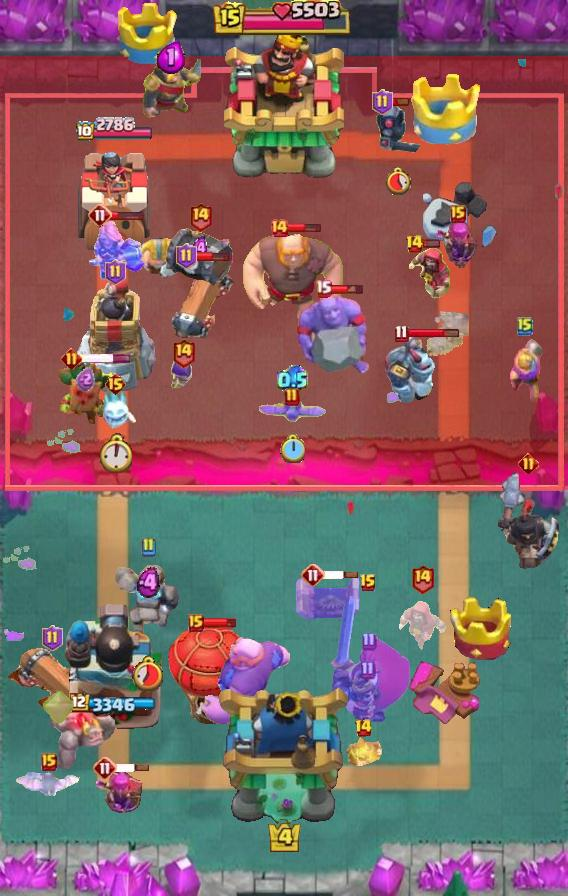archer-evolution: (96, 768, 148, 826), (433, 214, 483, 274)
bar: (79, 353, 132, 364), (407, 328, 460, 339), (201, 617, 237, 629), (330, 283, 365, 295), (287, 222, 322, 234), (110, 209, 145, 221), (194, 251, 230, 262), (114, 763, 150, 773), (323, 570, 359, 580), (390, 96, 410, 107), (422, 238, 441, 249)
bar-level: (410, 563, 435, 594), (171, 337, 196, 368), (188, 201, 213, 232), (93, 756, 117, 780), (301, 563, 325, 587), (88, 203, 112, 227), (104, 372, 127, 396), (42, 625, 63, 651), (105, 259, 126, 285), (176, 243, 197, 269), (372, 89, 393, 115), (518, 453, 539, 474), (61, 348, 82, 369), (269, 218, 289, 238), (354, 718, 373, 738), (405, 234, 424, 254), (359, 573, 377, 593), (315, 279, 332, 298), (140, 537, 156, 557), (284, 387, 300, 407), (517, 316, 533, 336), (41, 753, 57, 771), (188, 614, 204, 632), (450, 205, 466, 223), (394, 324, 409, 343)
bat-evolution: (13, 771, 85, 799), (255, 399, 329, 425)
cannoneer-tower: (64, 601, 164, 731)
clock: (98, 433, 132, 473), (131, 655, 166, 692), (384, 166, 412, 195), (280, 434, 305, 463)
dart-goblin: (56, 361, 114, 425)
dirt: (425, 310, 469, 358)
elite-barbarian: (137, 236, 185, 279)
elixir: (277, 365, 308, 396), (157, 41, 185, 74), (137, 567, 160, 599), (76, 367, 95, 391), (191, 236, 209, 261)
evolution-symbol: (41, 689, 73, 725)
golemite: (111, 562, 185, 644), (45, 706, 115, 772)
ice-spirit: (93, 388, 137, 434)
king-tower: (216, 684, 352, 826), (224, 29, 344, 181)
king-tower-bar: (213, 0, 355, 38)
knight: (141, 59, 201, 119)
lava-pup: (342, 734, 384, 770)
mega-minion: (383, 334, 443, 404)
mini-pekka: (373, 102, 423, 156)
musketeer: (505, 339, 545, 403)
queen-tower: (71, 145, 157, 256)
skeleton-evolution: (168, 357, 198, 397)
tesla: (292, 575, 364, 623)
tower-bar: (75, 117, 154, 143), (70, 693, 158, 715)
valkyrie-evolution: (87, 219, 147, 283)
wizard: (397, 599, 447, 653), (406, 246, 452, 300)
